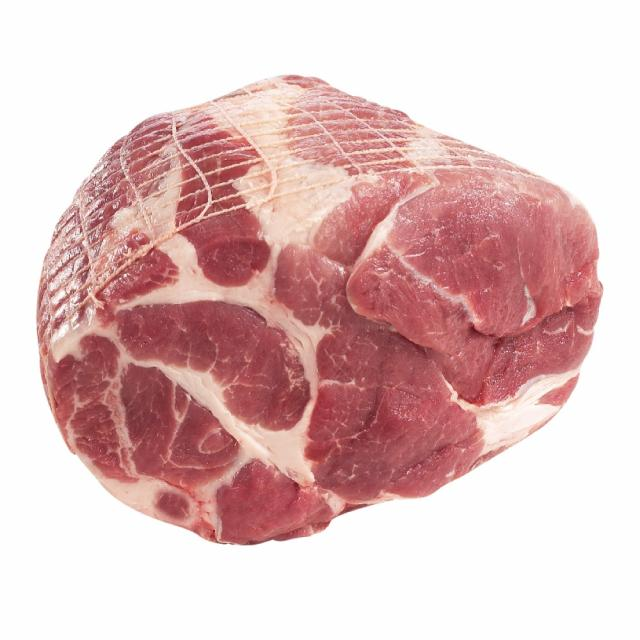Pork: (37, 75, 603, 545)
